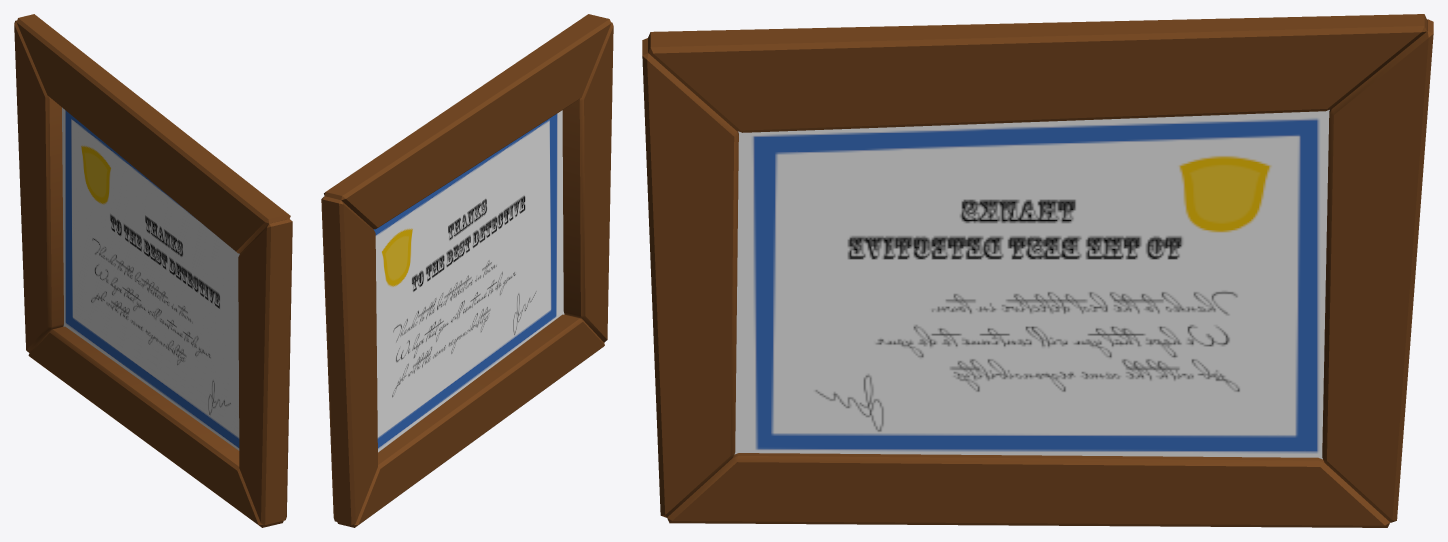
Rendered from Picture2.fbx.
3 renders of one model, left to right at view 1: azimuth 30°, elevation 25°; view 2: azimuth 150°, elevation 25°; view 3: azimuth 270°, elevation 25°, orthographic. The views are drawn at different scales.
Parts seen in each view (by area): view 1: Picture2; view 2: Picture2; view 3: Picture2.
Part boxes in pixels (<box>): Picture2: <box>14,14,292,527</box>; Picture2: <box>321,14,613,527</box>; Picture2: <box>642,14,1433,527</box>.
Size of the model in its own units: 0.0412 by 0.5014 by 0.7162.
